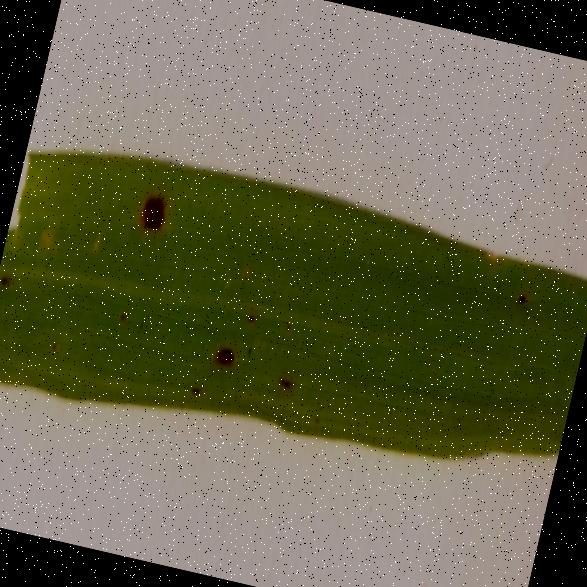Brown_Spot: (132, 164, 180, 250), (204, 312, 244, 388), (262, 343, 308, 404), (0, 246, 31, 323), (508, 262, 539, 318)
